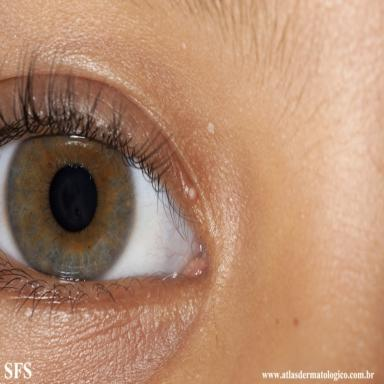Molluscum-Contagiosum: (188, 187, 197, 200), (207, 122, 215, 134), (181, 43, 186, 49)
